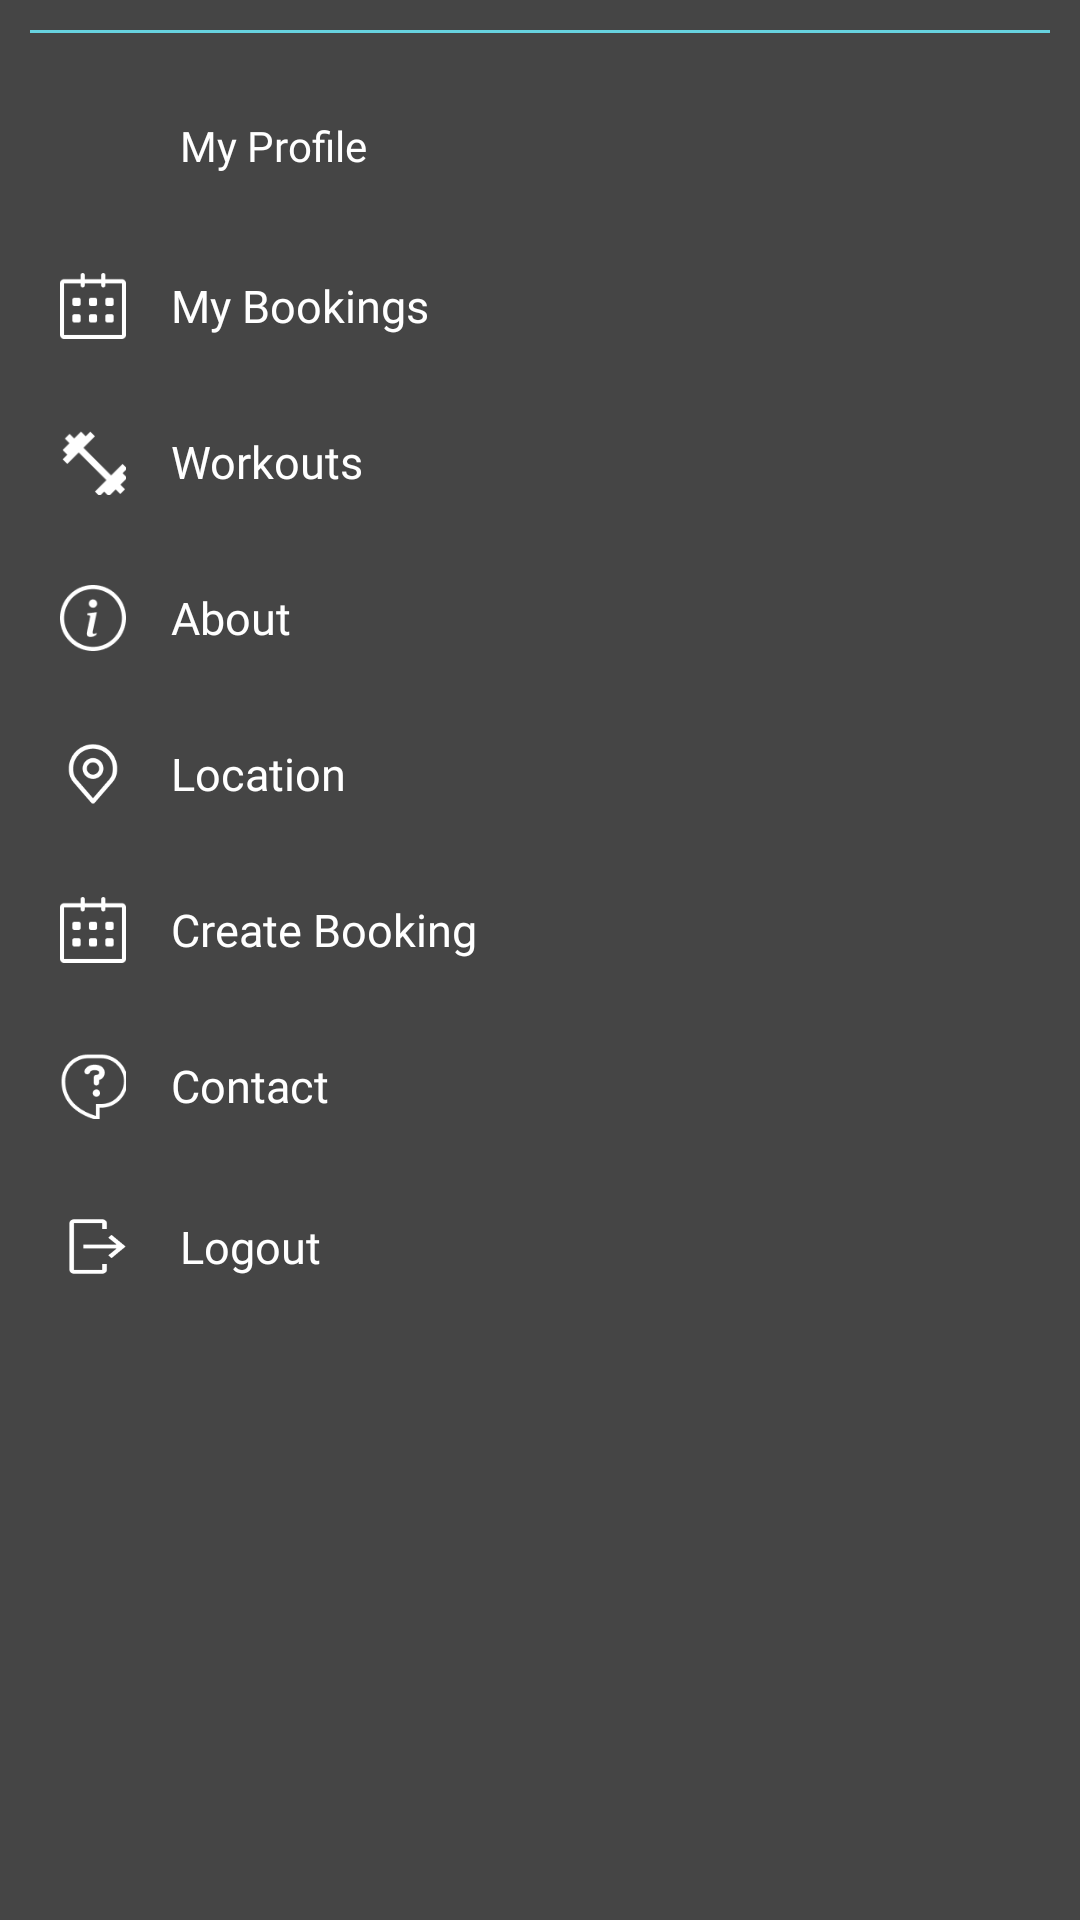

Screen size 1080*1920. Icon name, then its center in pixels as point (x, y):
loc: point (93, 774)
